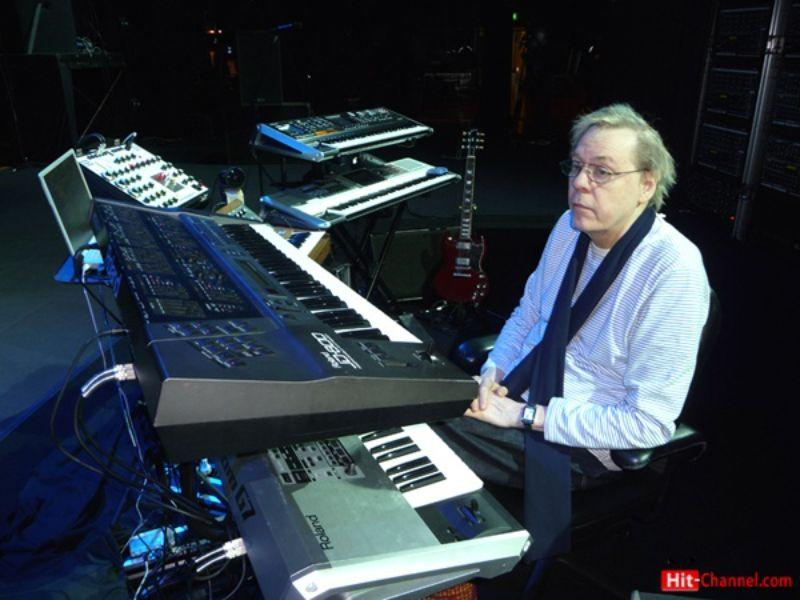synthesizer: (58, 244, 459, 410), (225, 448, 525, 579), (244, 86, 445, 161), (244, 178, 474, 230)
